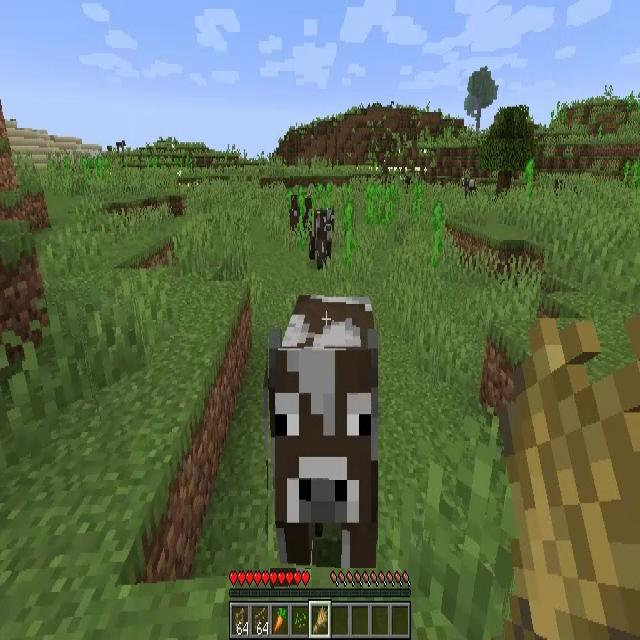cow: (268, 294, 378, 568), (310, 208, 335, 266), (290, 196, 314, 232), (461, 178, 476, 201), (116, 140, 126, 152)
